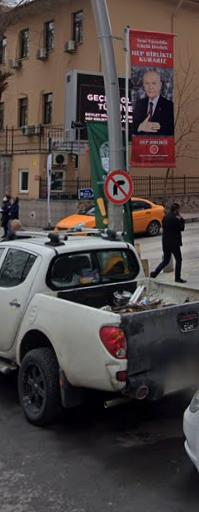rightturnsareforbidden: (105, 170, 133, 205)
